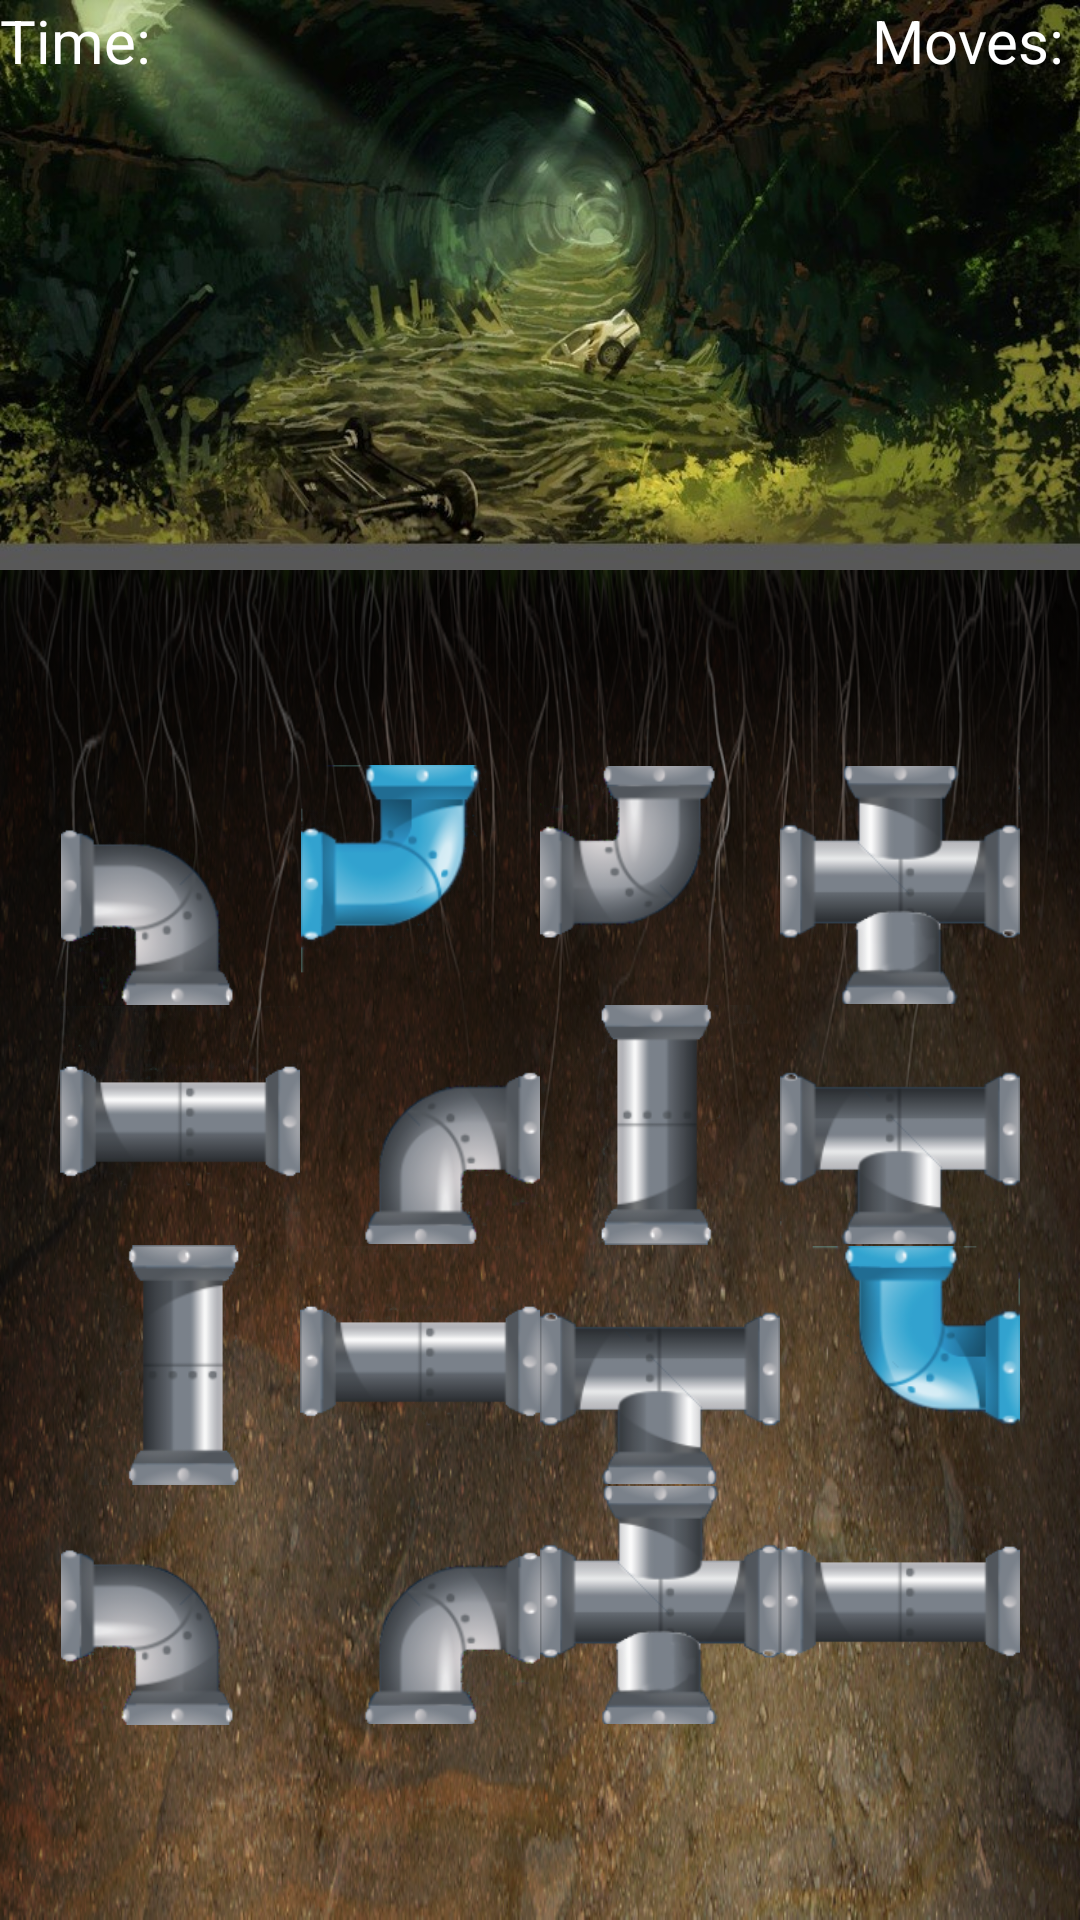

Where to tap for icons on this 1080px×1920px app screen, as point (x, y):
pipe borders leftbottom: point (180, 885), point (180, 1605)
pipe borders lefttop: point (420, 885), point (660, 885)
pipe borders rightbottom: point (420, 1125), point (420, 1605)
pipe borders righttop: point (900, 1365)
pipe fork bottom: point (900, 1125), point (660, 1365)
pipe four: point (900, 885), point (660, 1605)
pipe vertical: point (660, 1125)
